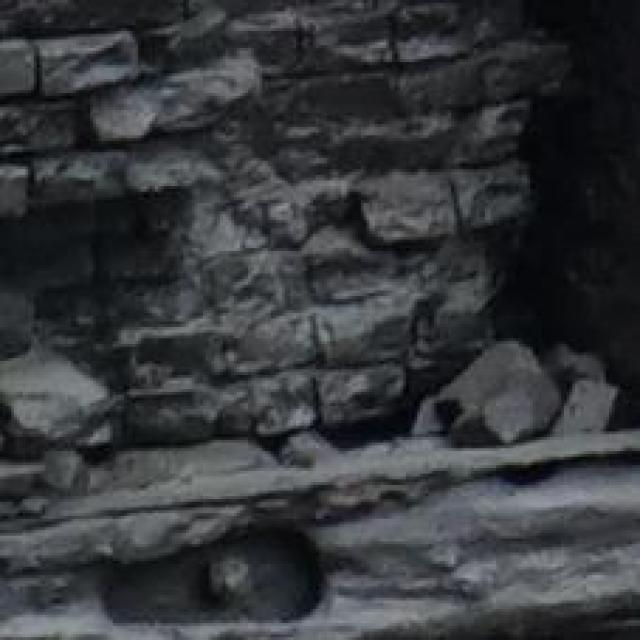Crack: (231, 0, 640, 567)
